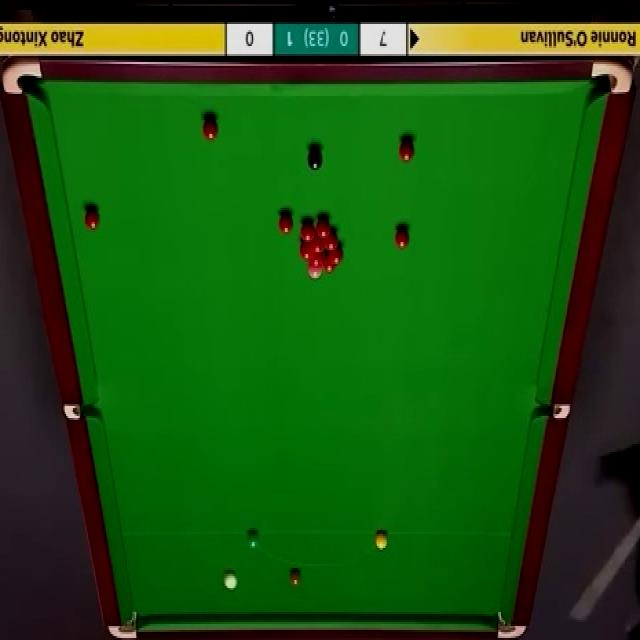pocket: (590, 58, 633, 97), (3, 57, 43, 98), (495, 606, 529, 640), (109, 608, 141, 640), (65, 403, 99, 422), (536, 404, 572, 418)
